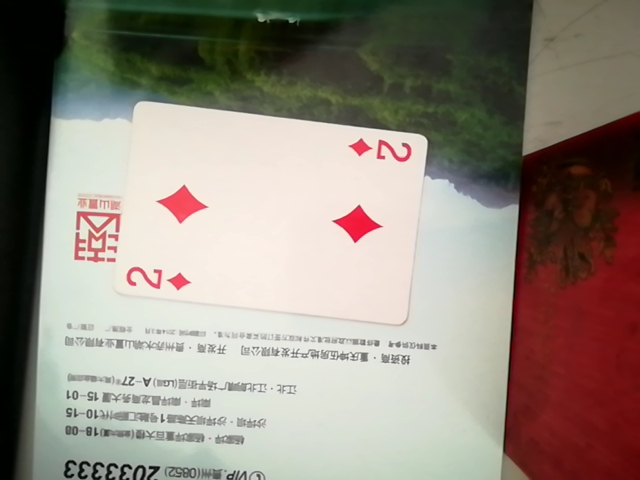fk 2: (57, 99, 433, 320)
